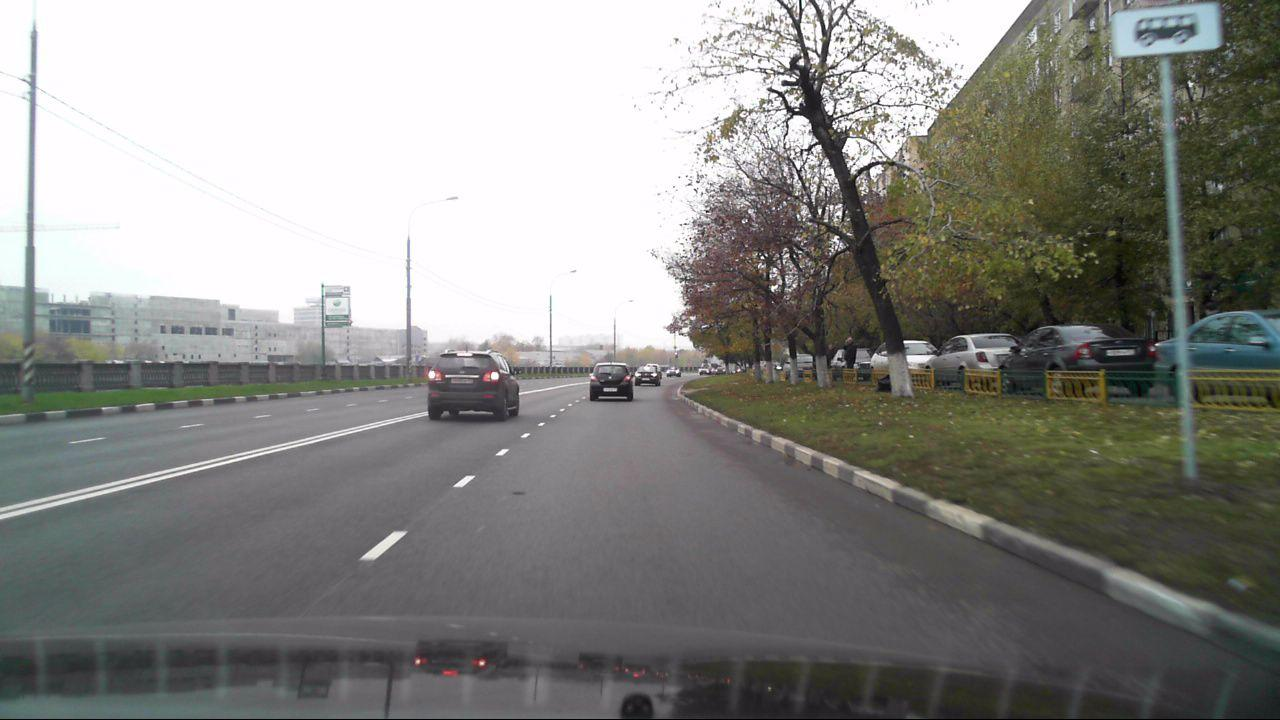8_4_4: (1112, 8, 1221, 56)
